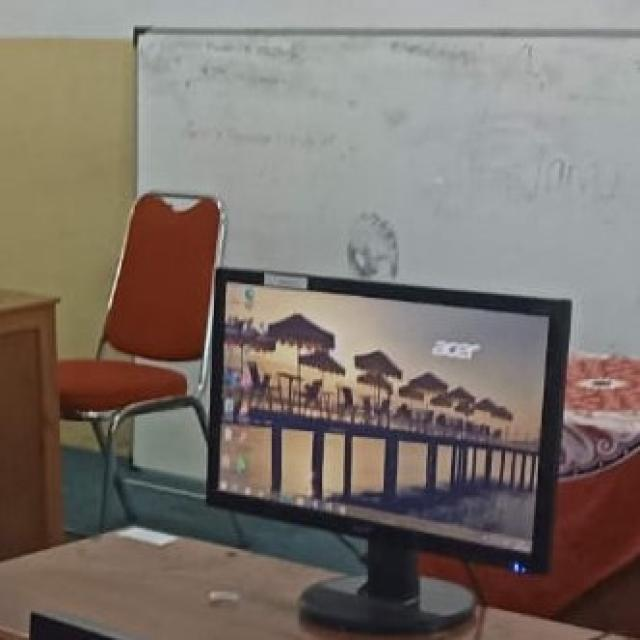onscreen: (211, 273, 546, 565)
